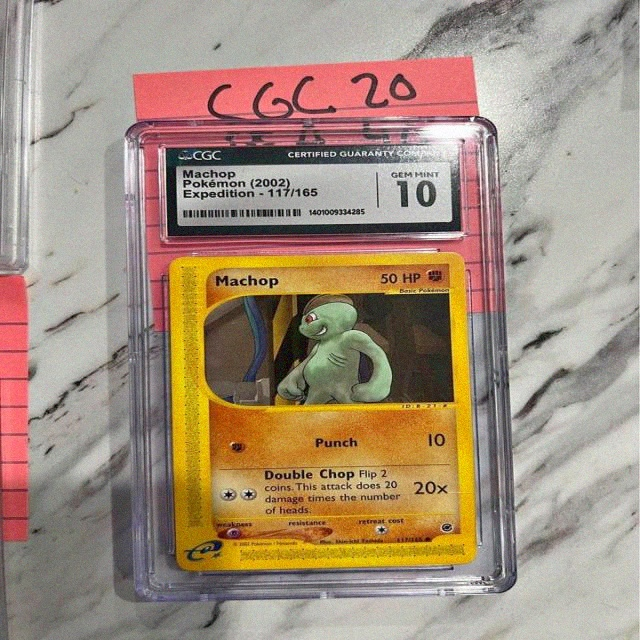card: (169, 251, 480, 572)
